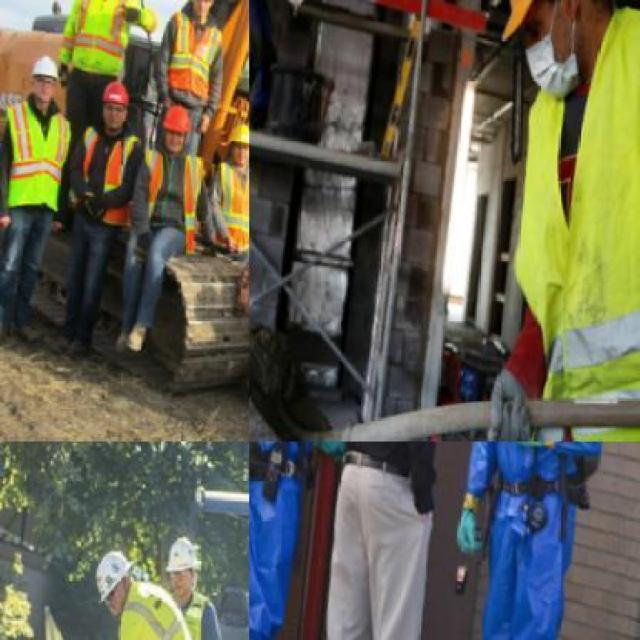Vest: (456, 0, 638, 440), (445, 442, 623, 522), (64, 117, 144, 229), (0, 97, 77, 212), (123, 142, 205, 249), (102, 576, 220, 638), (249, 442, 354, 506), (155, 14, 228, 103), (65, 0, 137, 82), (200, 151, 248, 252), (152, 580, 222, 638)
